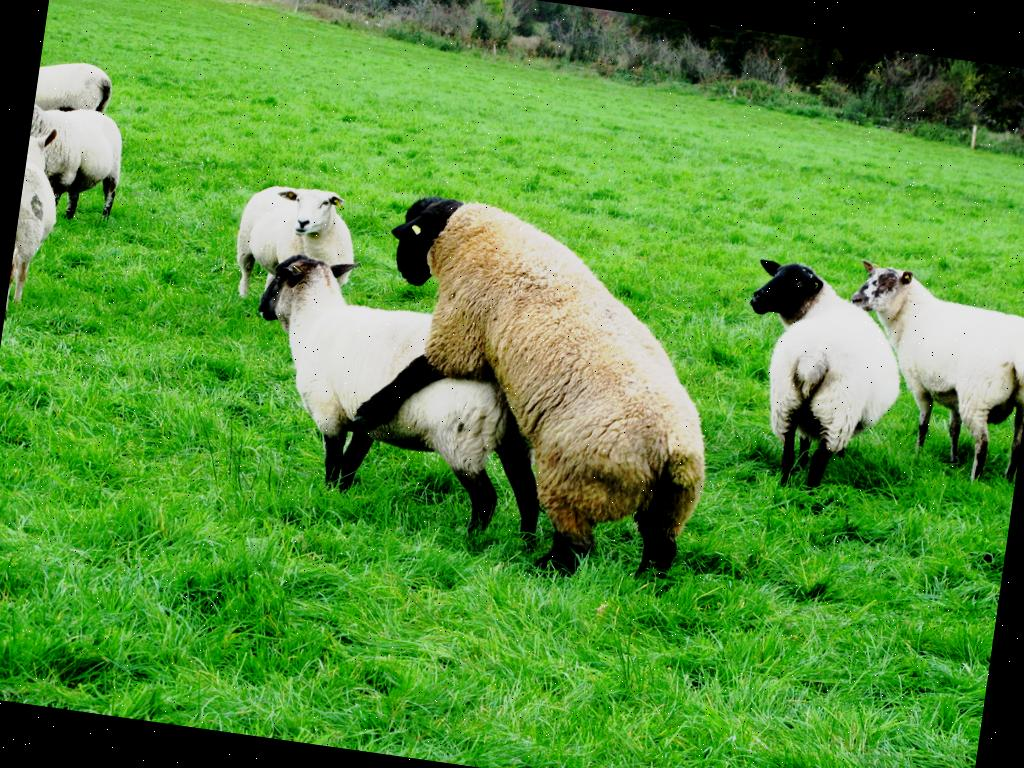Sheep: (346, 189, 738, 600), (228, 251, 572, 558), (726, 258, 916, 504), (827, 259, 1024, 493), (229, 179, 361, 310), (19, 103, 130, 226), (6, 125, 69, 312), (34, 56, 118, 118)
